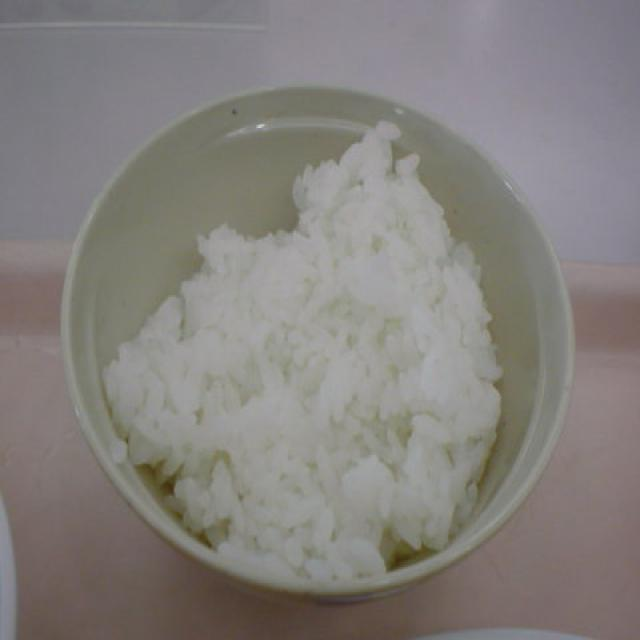nasi_putih: (105, 123, 504, 576)
